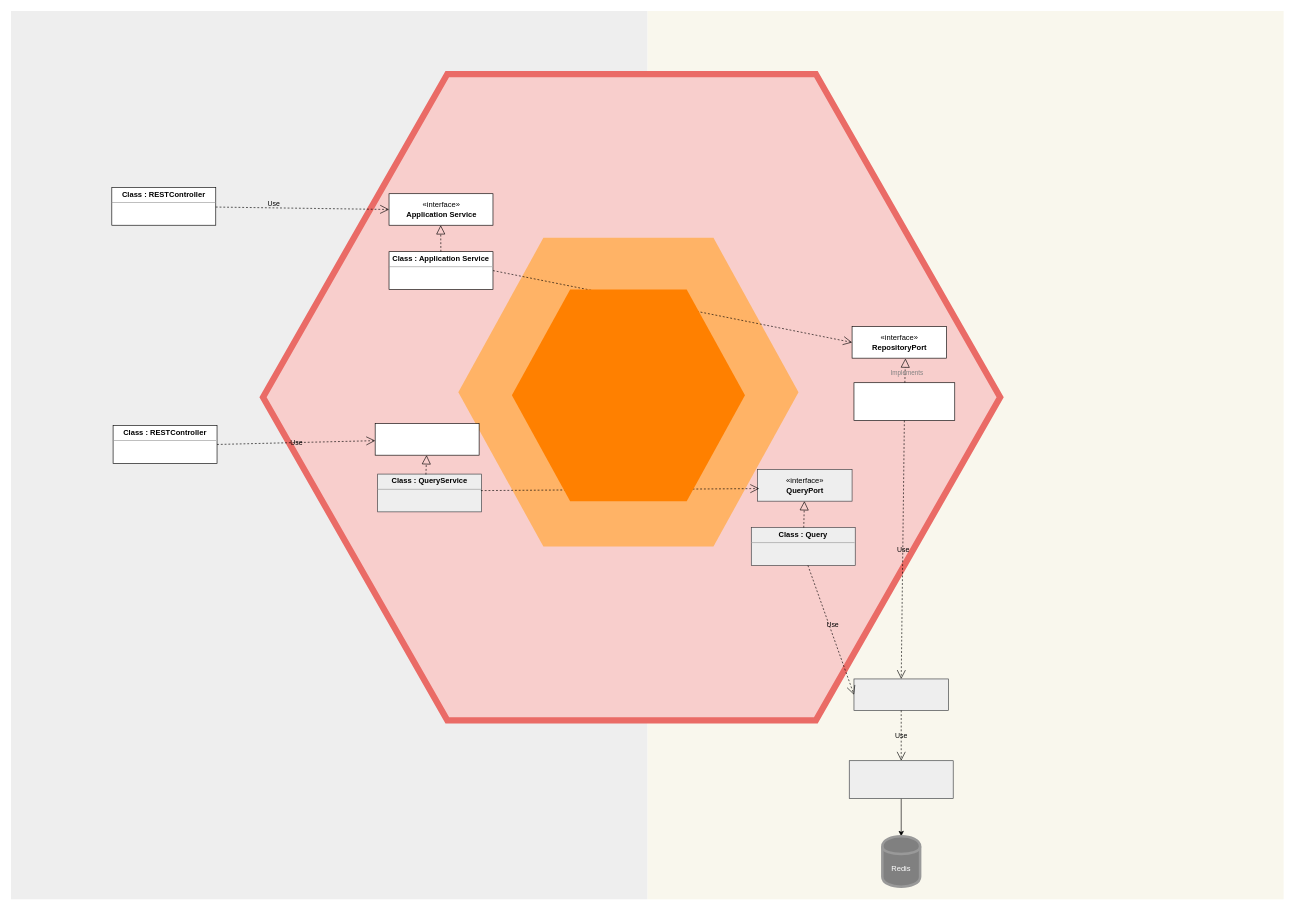
Image size: 1294x910. Some labels were removed from this diagram. The centre of each missing label's shape, as x and y in pixels:
Class : JedisConnectFactory: [901,779]
Class : RedisRepositoryImpl: [904,401]
«abstract class» RedisTemplate: [900,694]
«interface» QueryService: [427,439]
